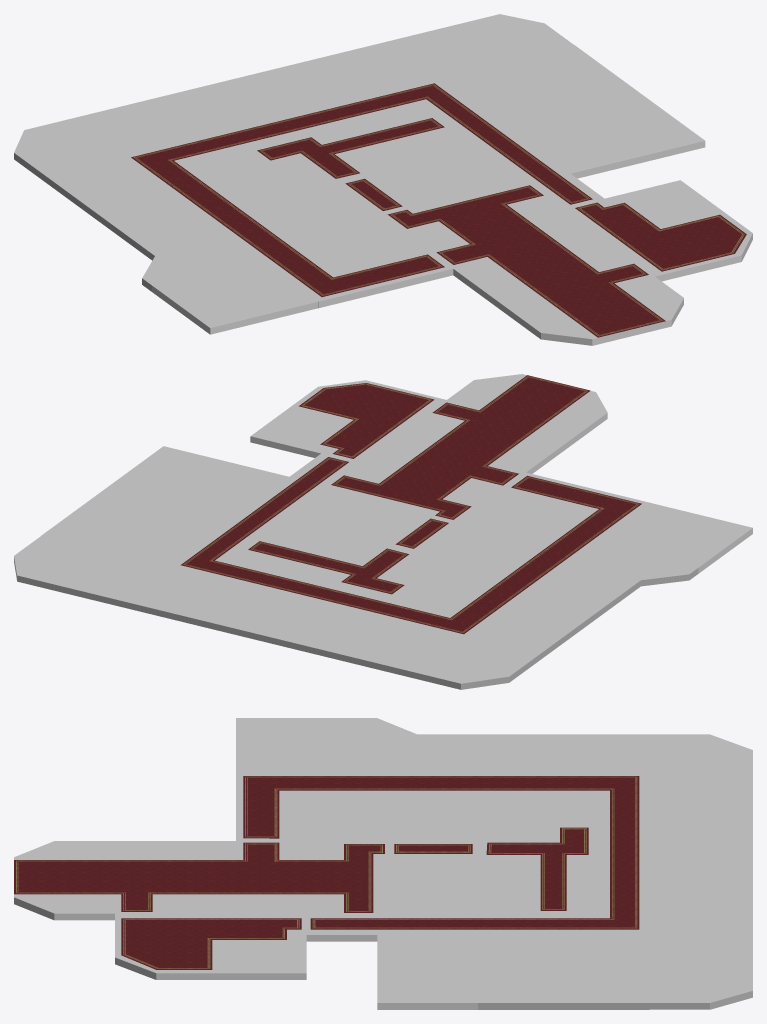
Rendered from SM_FloorPieces.fbx.
3 renders of one model, top to bottom at view 1: azimuth 30°, elevation 25°; view 2: azimuth 150°, elevation 25°; view 3: azimuth 270°, elevation 25°, orthographic. The views are drawn at different scales.
Parts seen in each view (by area): view 1: sm_Carpet, sm_lobby, sm_randomRoom, sm_hallway01, sm_bedroom05, sm_serviceRoom, sm_publicBathroom01, sm_bedroom01, sm_Carpet.001, sm_bedroom04, sm_bedroom03, sm_bar (+10 smaller); view 2: sm_Carpet, sm_lobby, sm_bedroom05, sm_randomRoom, sm_hallway01, sm_serviceRoom, sm_Carpet.001, sm_bedroom01, sm_bedroom03, sm_bedroom04, sm_publicBathroom01, sm_bedroom06 (+10 smaller); view 3: sm_Carpet, sm_lobby, sm_bedroom05, sm_randomRoom, sm_hallway01, sm_serviceRoom, sm_publicBathroom01, sm_Carpet.001, sm_bedroom01, sm_bar, sm_bedroom04, sm_bedroom03 (+10 smaller).
Part boxes in pixels (<box>): sm_Carpet: <box>131,83,746,337</box>; sm_lobby: <box>381,180,683,345</box>; sm_randomRoom: <box>186,105,479,205</box>; sm_hallway01: <box>119,77,603,308</box>; sm_bedroom05: <box>305,14,573,97</box>; sm_serviceRoom: <box>464,62,656,137</box>; sm_publicBathroom01: <box>522,105,705,178</box>; sm_bedroom01: <box>152,259,318,334</box>; sm_Carpet.001: <box>133,84,744,336</box>; sm_bedroom04: <box>112,80,278,145</box>; sm_bedroom03: <box>14,109,160,180</box>; sm_bar: <box>563,180,752,281</box>; sm_Carpet: <box>180,375,641,634</box>; sm_lobby: <box>324,374,607,522</box>; sm_bedroom05: <box>14,536,244,625</box>; sm_randomRoom: <box>229,519,502,612</box>; sm_hallway01: <box>167,453,651,639</box>; sm_serviceRoom: <box>64,479,243,549</box>; sm_Carpet.001: <box>183,376,639,632</box>; sm_bedroom01: <box>598,503,752,573</box>; sm_bedroom03: <box>380,630,536,689</box>; sm_bedroom04: <box>269,603,425,669</box>; sm_publicBathroom01: <box>118,446,288,509</box>; sm_bedroom06: <box>449,489,589,549</box>; sm_Carpet: <box>14,776,639,969</box>; sm_lobby: <box>14,841,387,920</box>; sm_bedroom05: <box>649,892,752,1009</box>; sm_randomRoom: <box>478,794,598,913</box>; sm_hallway01: <box>236,773,649,941</box>; sm_serviceRoom: <box>478,935,598,1009</box>; sm_publicBathroom01: <box>377,935,477,1009</box>; sm_Carpet.001: <box>16,776,637,968</box>; sm_bedroom01: <box>236,718,356,772</box>; sm_bar: <box>115,913,306,979</box>; sm_bedroom04: <box>649,794,752,853</box>; sm_bedroom03: <box>649,734,752,793</box>.
Size of the model in its own units: 6685 by 79.49 by 7325.
